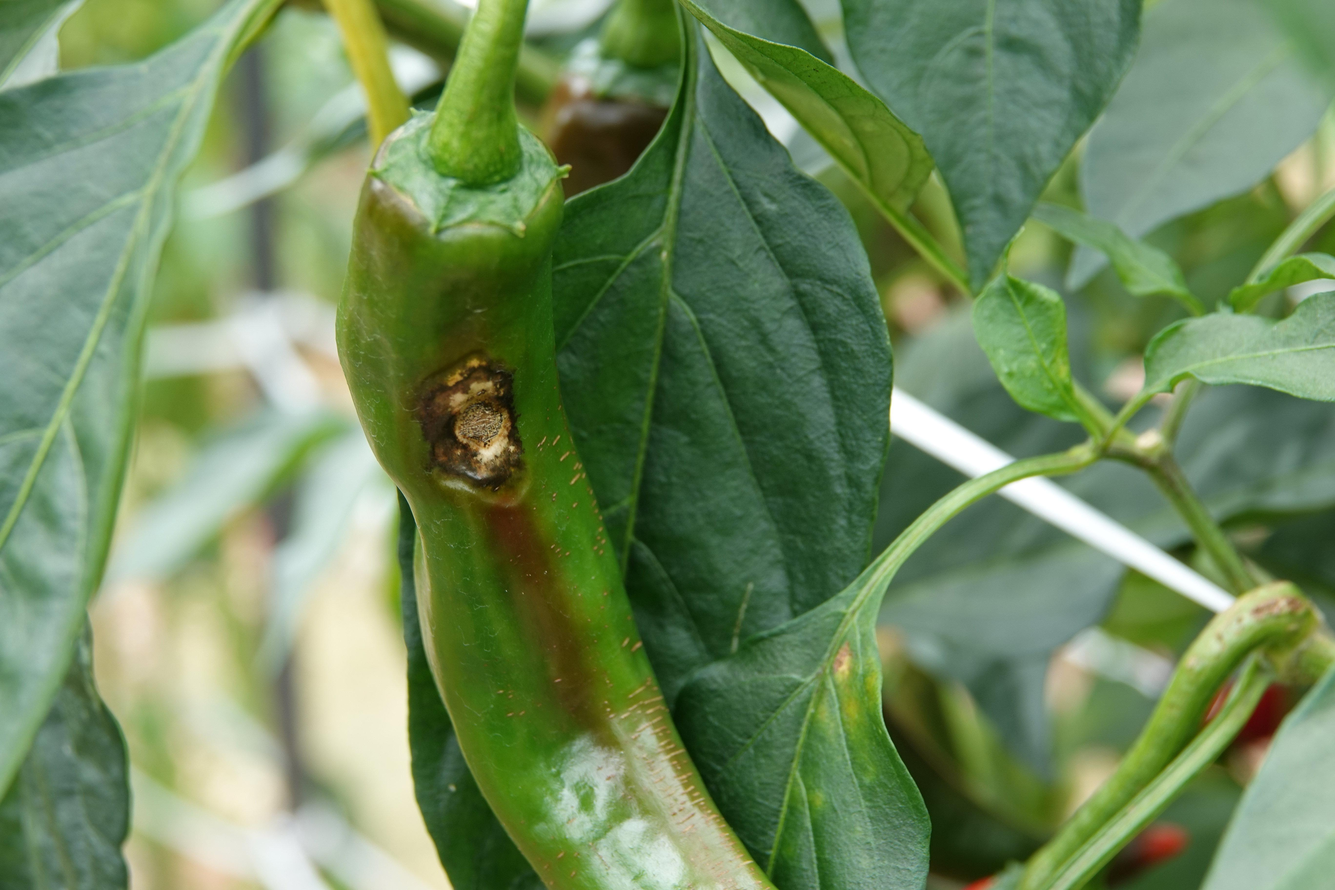Busuk Buah Antraknosa: (332, 116, 780, 887)
